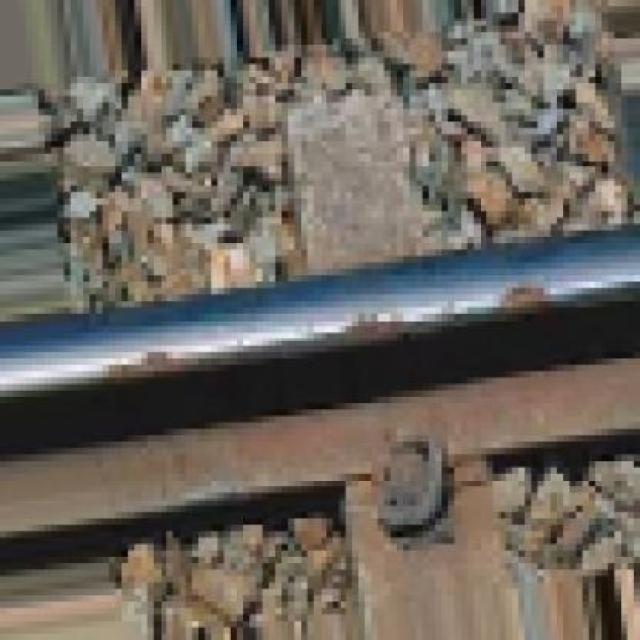defective: (10, 239, 640, 522)
